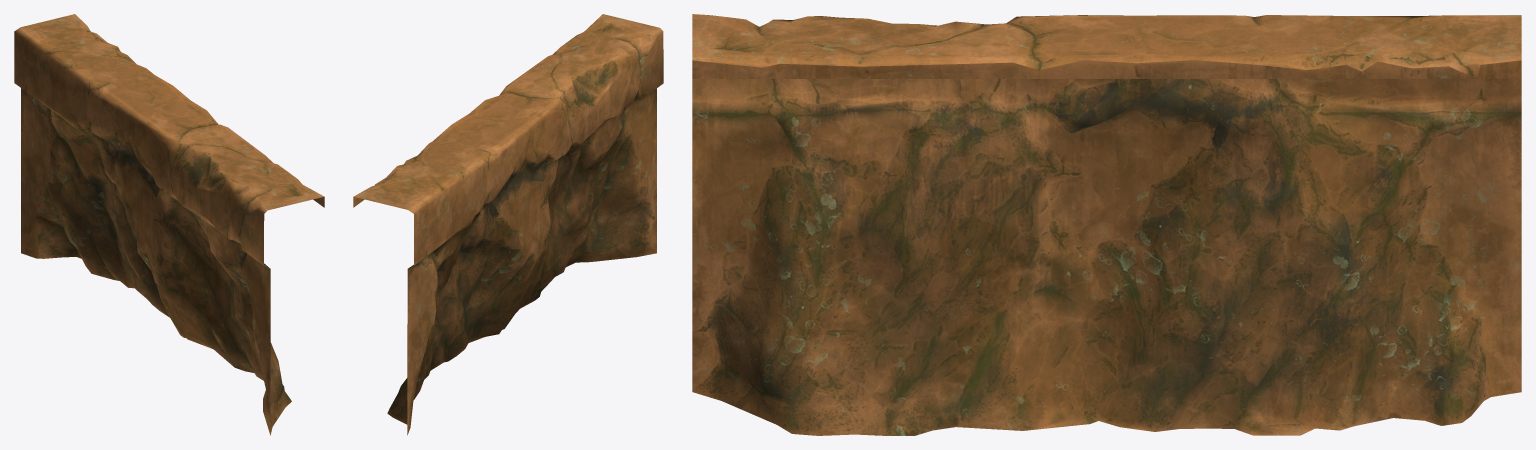
File: WallLong02Broken.fbx
The picture shows the model from 3 angles, left to right: view 1: azimuth 30°, elevation 25°; view 2: azimuth 150°, elevation 25°; view 3: azimuth 270°, elevation 25°; orthographic projection. The views are drawn at different scales.
Visible parts, largest first — view 1: WallLong02Broken_LOD00; view 2: WallLong02Broken_LOD00; view 3: WallLong02Broken_LOD00.
Part boxes in pixels (bbox=[...]): WallLong02Broken_LOD00: bbox=[14, 14, 324, 435]; WallLong02Broken_LOD00: bbox=[353, 14, 663, 435]; WallLong02Broken_LOD00: bbox=[692, 14, 1521, 435].
Size of what is drawn, in the model's own units: 113 by 401 by 800.
